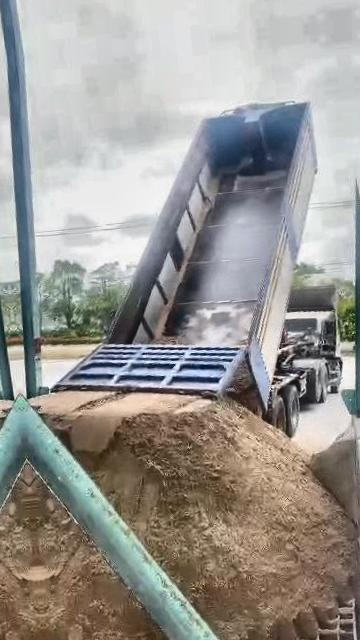sand: (34, 360, 356, 640), (28, 471, 181, 640), (309, 428, 360, 550)
